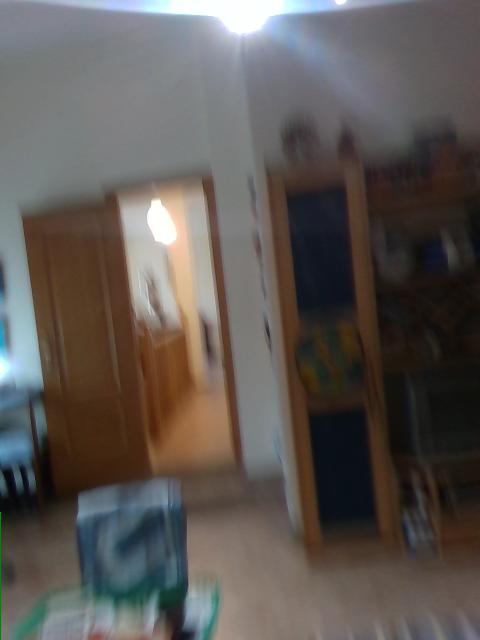open_door: (98, 165, 251, 482)
